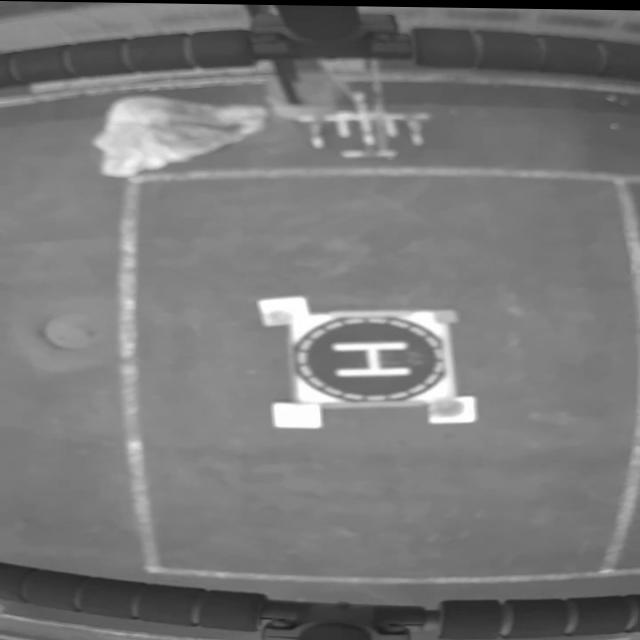Helipad: (335, 339, 409, 375)
